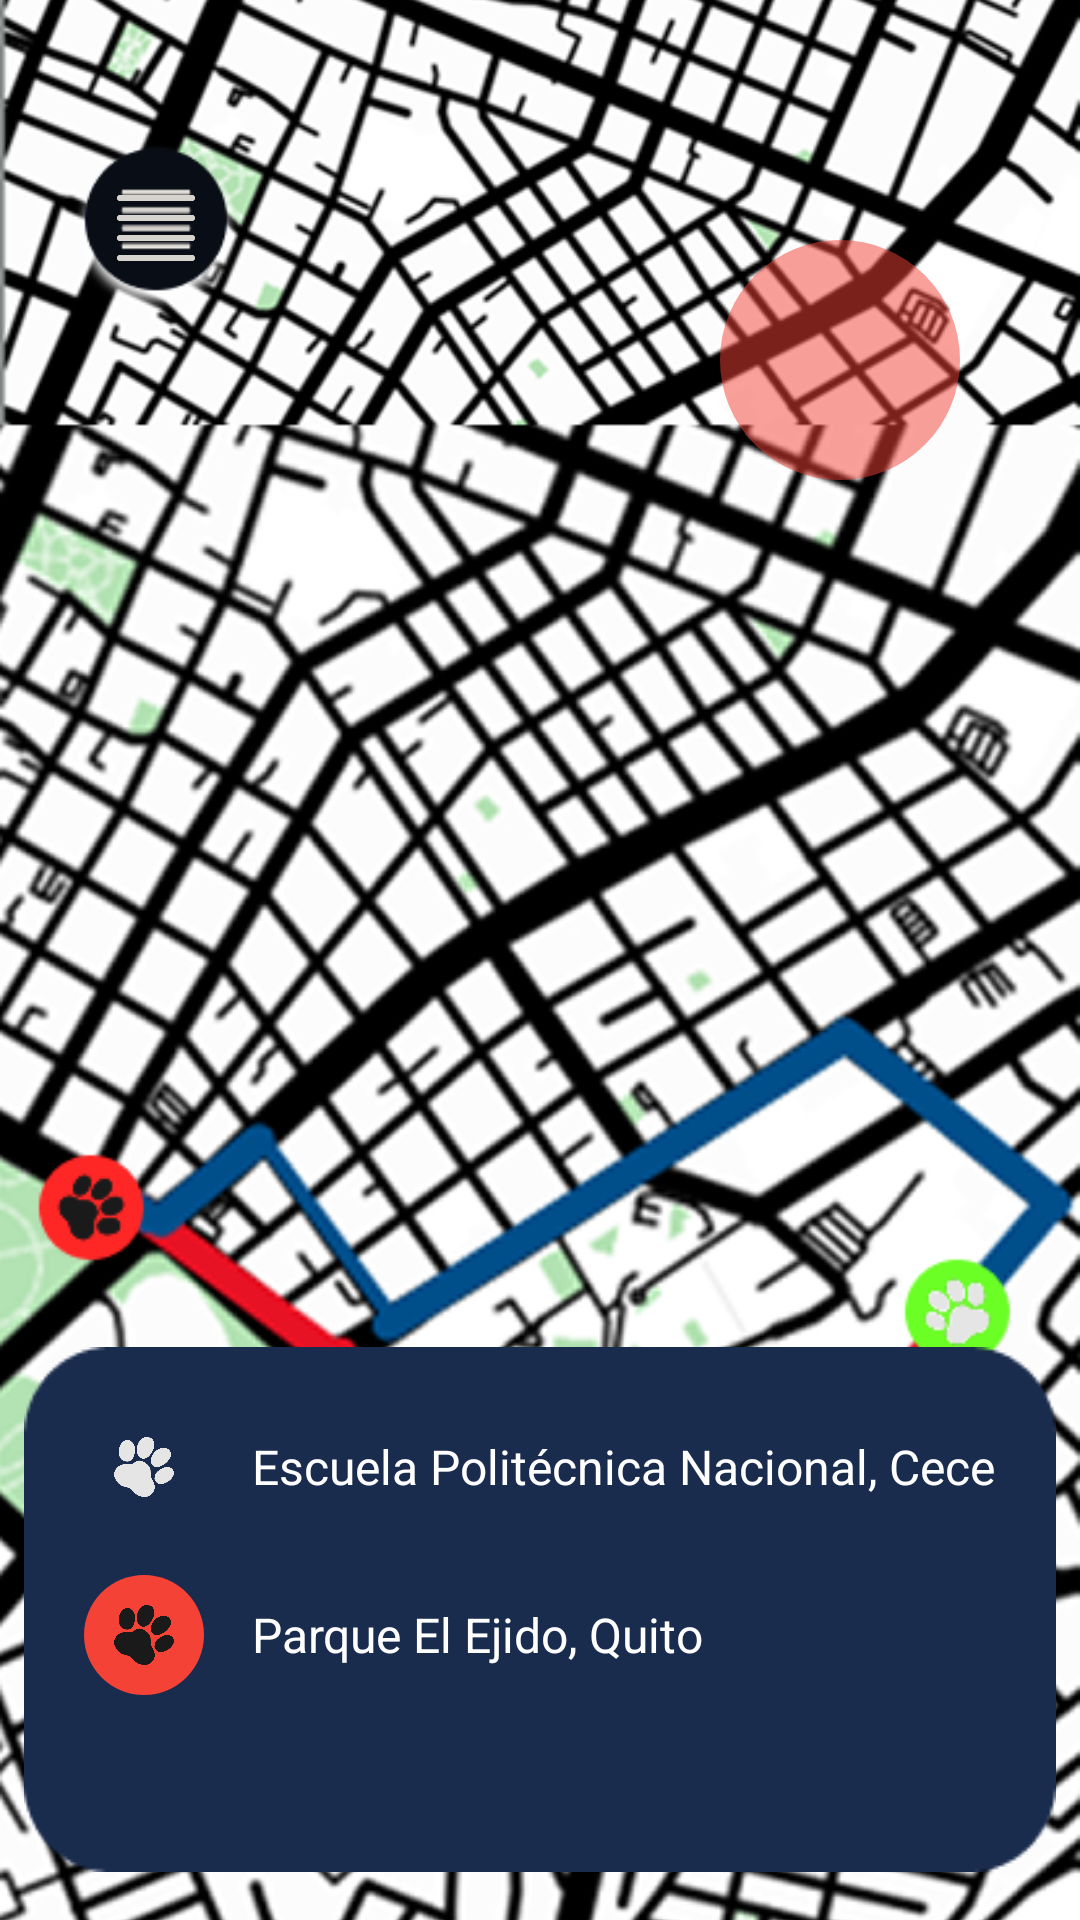

Icon click points for this 1080*1920 phone screenshot, format [x,y]:
barras write: [156,228]
huella: [144,1635]
huella write: [144,1467]
